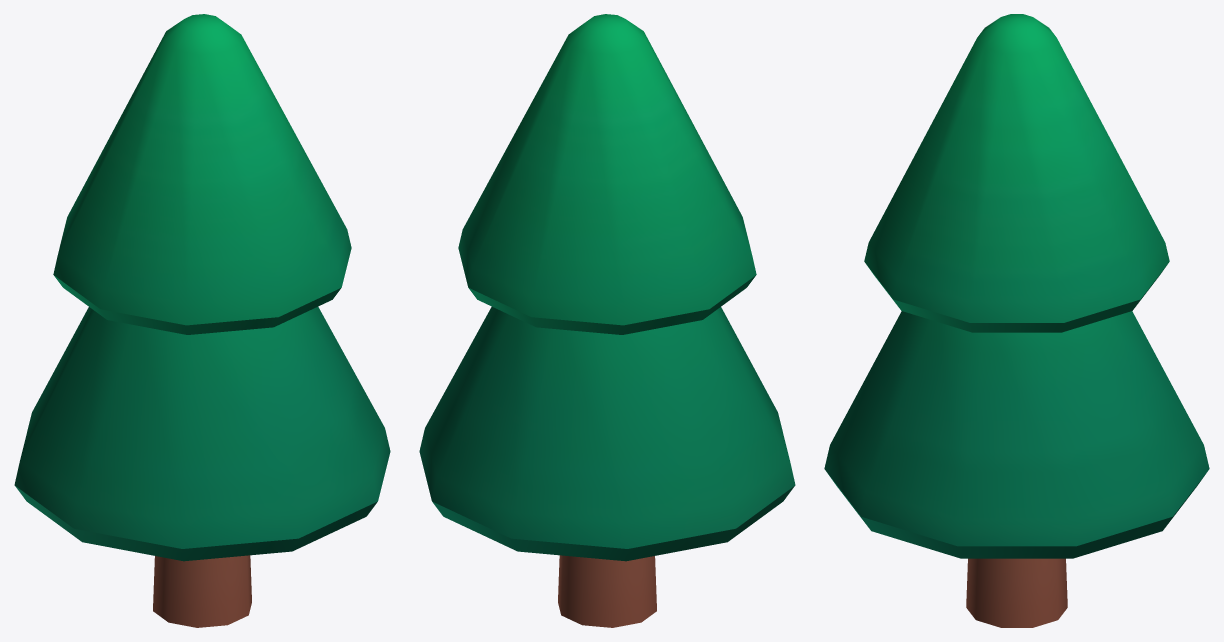
Rendered from tree_single_B.glb.
The picture shows the model from 3 angles, left to right: view 1: azimuth 30°, elevation 25°; view 2: azimuth 150°, elevation 25°; view 3: azimuth 270°, elevation 25°; orthographic projection.
Visible parts, largest first — view 1: tree_single_B; view 2: tree_single_B; view 3: tree_single_B.
Part boxes in pixels (bbox=[...]): tree_single_B: bbox=[14, 14, 390, 627]; tree_single_B: bbox=[419, 14, 795, 627]; tree_single_B: bbox=[824, 14, 1209, 627].
Size of the model in its own units: 0.6849 by 1.21 by 0.7201.
Materials: 1 (1 with a texture image).
